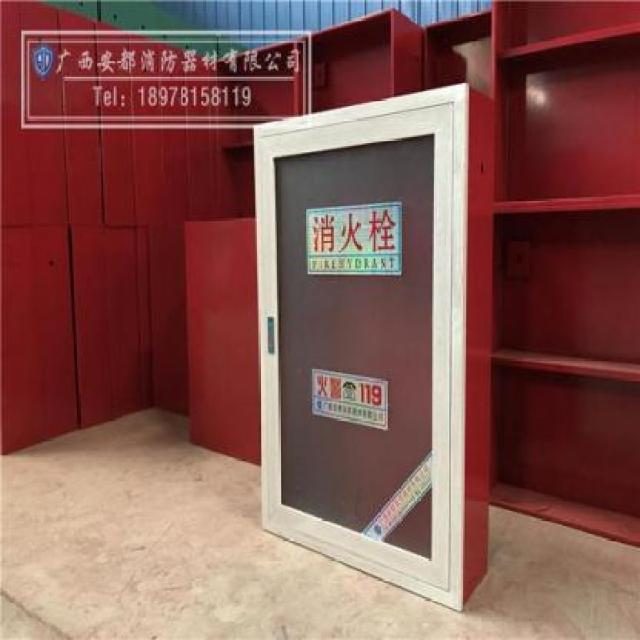firehydrant: (249, 79, 500, 622)
